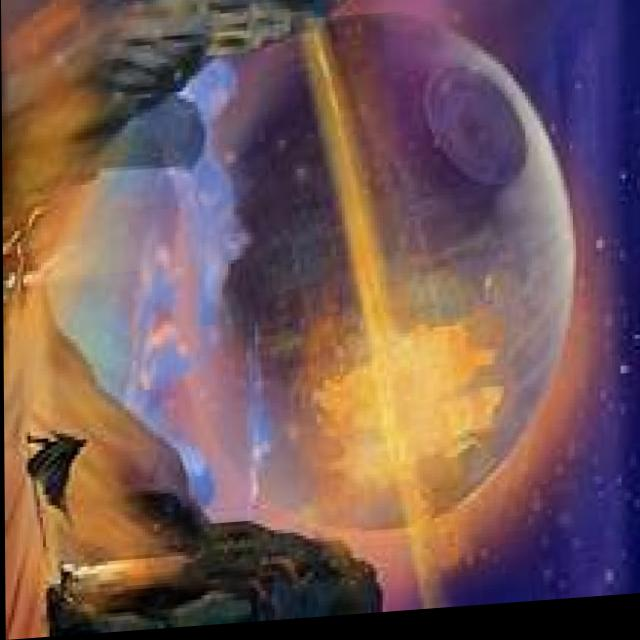deathStar: (189, 4, 577, 550)
